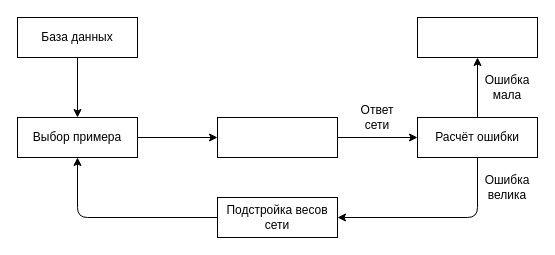
Some shapes in this 555 by 255 pixel diagram are drawn without their labels. The centre of each missing label's shape, as x and y in pixels:
Применение нейросети: the point at 277,137
Сеть обучена: the point at 477,37
